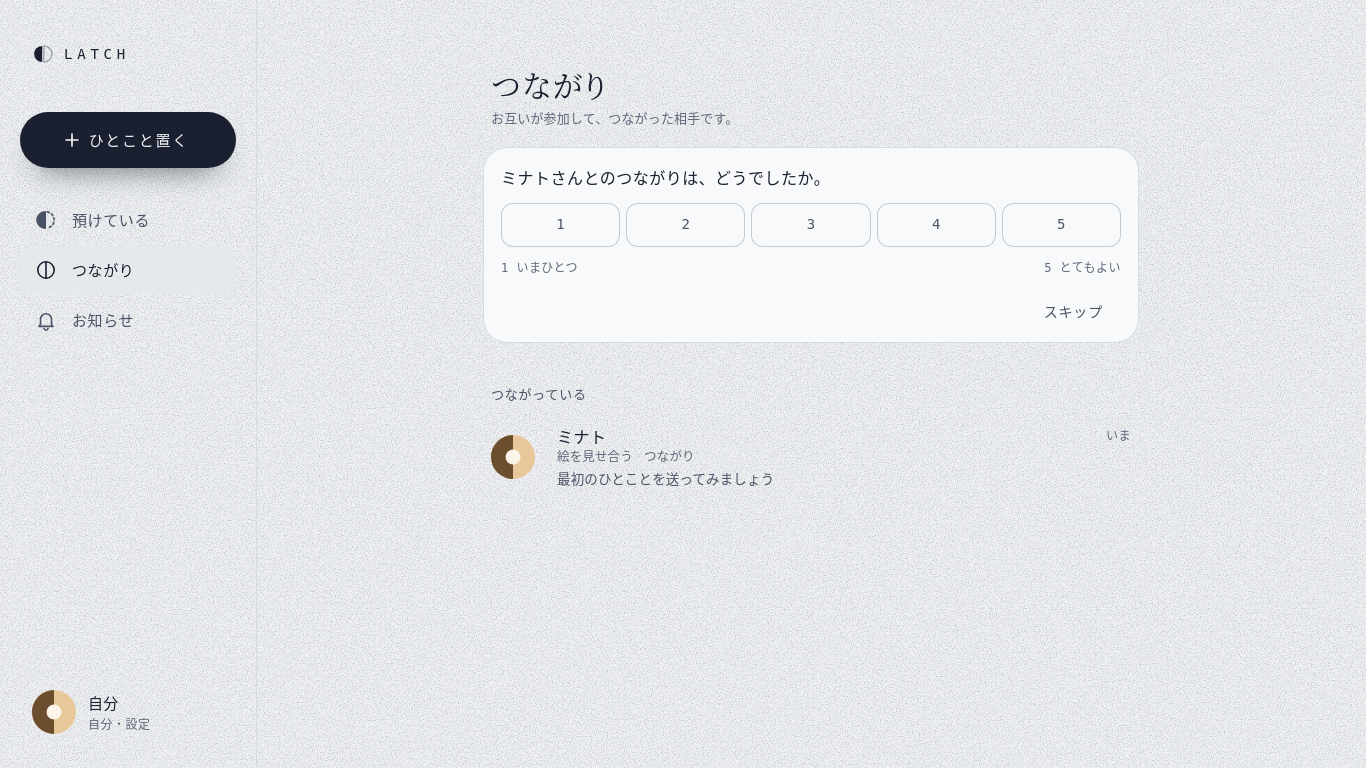
Connections のつながりの品質の問い › 数字を選ぶと送り、問いを隠してお礼を出す
The width and height of the screenshot is (1366, 768).
Click the radio button labelled "4".
click(936, 225)  # box [877,203,996,247]
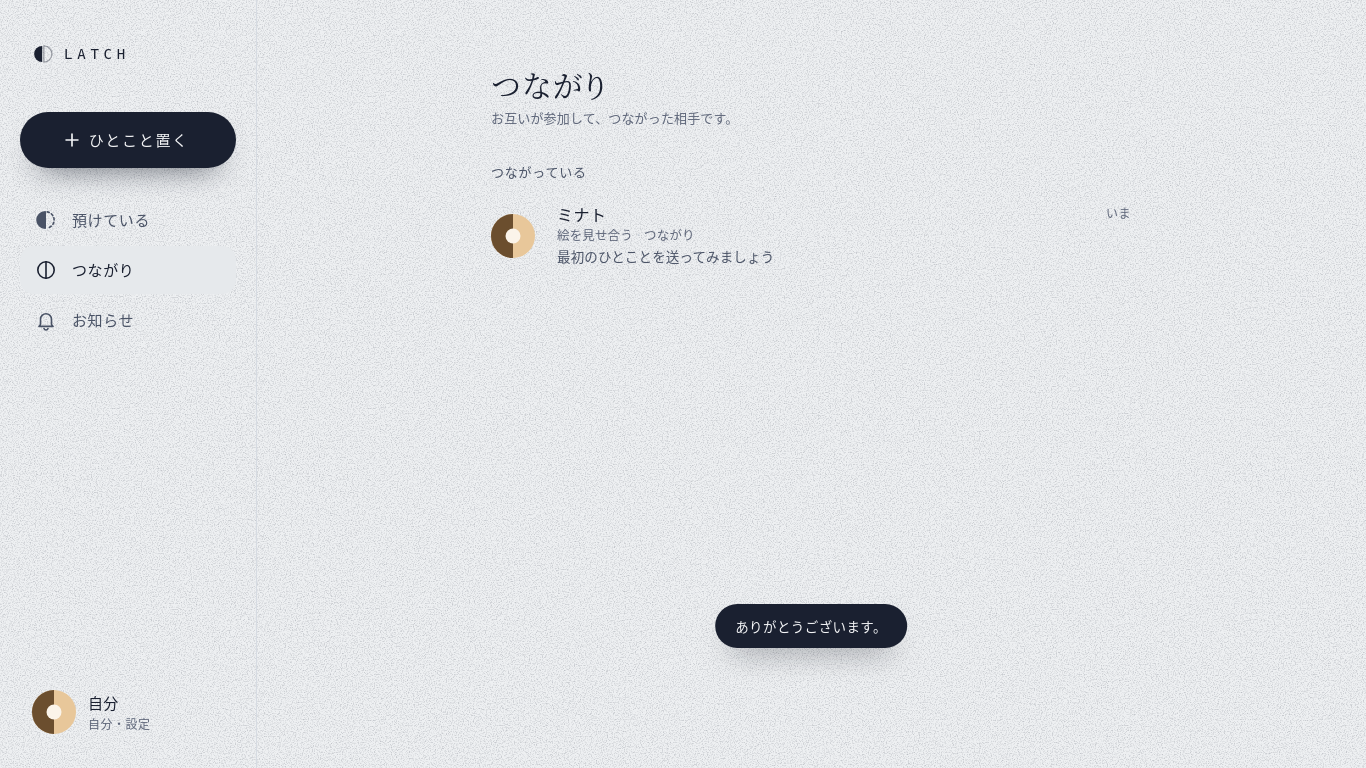
Result: the text "ありがとうございます。" is shown at [715,604,907,648]
